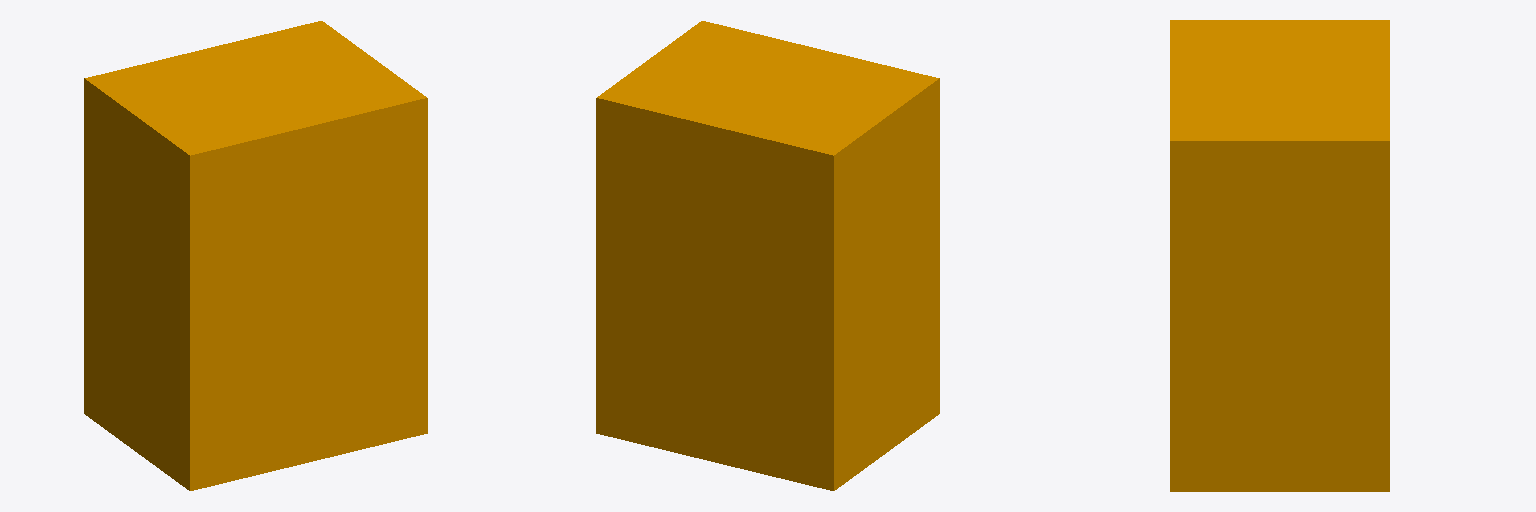
URDF robot description (shelf_model):
<robot name="shelf_model">
  <link name="shelf">
    <inertial>
      <mass value="5.0" />
      <!-- center of mass (com) is defined w.r.t. link local coordinate system -->
      <origin xyz="0 0 0.1" /> 
      <inertia  ixx="0.1" ixy="0.0"  ixz="0.0"  iyy="0.1"  iyz="0.0"  izz="0.1" />
    </inertial>
    <visual>
      <!-- visual origin is defined w.r.t. link local coordinate system -->
      <origin xyz="0 0 0.25" rpy="0 0 0" />
      <geometry>
        <box size="0.37 0.285 0.50"/>
      </geometry>
    </visual>
    <collision>
      <!-- collision origin is defined w.r.t. link local coordinate system -->
      <origin xyz="0 0 0.25" rpy="0 0 0" />
      <geometry>
        <box size="0.37 0.285 0.50"/>
      </geometry>
    </collision>
  </link>
  <gazebo reference="shelf">
    <turnGravityOff>false</turnGravityOff>
    <genTexCoord>true</genTexCoord>
    <kp>100000000.0</kp>
    <kd>10000.0</kd>
  </gazebo>
</robot>

--- Render facts (derived) ---
Views: 3 orthographic renders of the robot side by side, from view 1: azimuth 30°, elevation 25°; view 2: azimuth 150°, elevation 25°; view 3: azimuth 270°, elevation 25°.
Robot: shelf_model — 1 links, 0 joints (none); root link shelf; default pose: every joint at zero.
Visible links, largest first — view 1: shelf; view 2: shelf; view 3: shelf.
Link boxes in pixels (<box>): shelf: <box>84,21,427,490</box>; shelf: <box>596,21,939,490</box>; shelf: <box>1170,20,1389,491</box>.
Size in the robot's own frame: 0.37 by 0.285 by 0.5 metres.
Geometry: primitives only (box / cylinder / sphere), no mesh files.